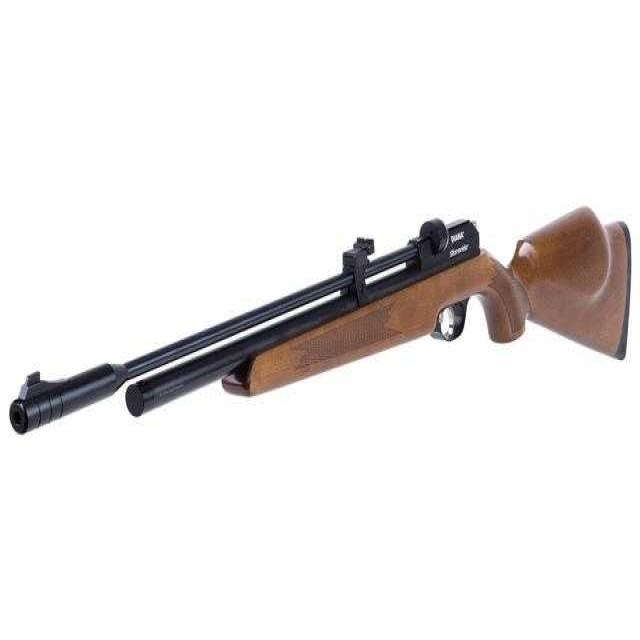heavyweapon: (5, 192, 639, 442)
